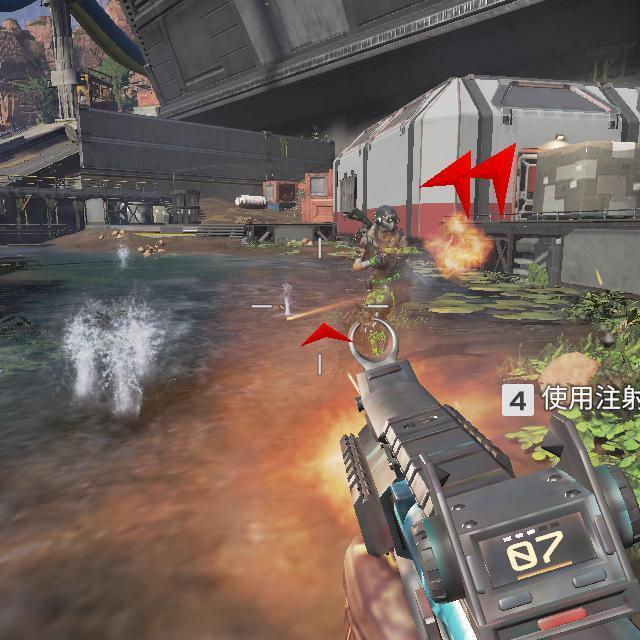avatar: (349, 202, 417, 357)
